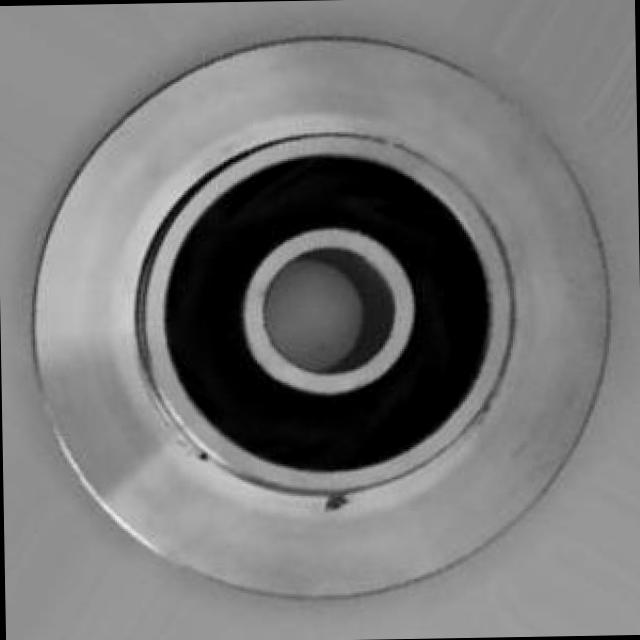Defect: (316, 485, 354, 521)
